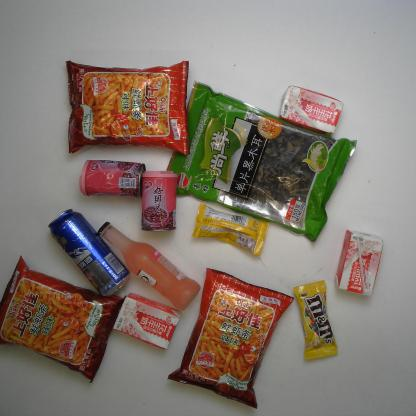Alcohol: (97, 218, 201, 307), (45, 208, 127, 299)
Canned Food: (137, 169, 180, 233), (80, 158, 143, 201)
Chocolate: (191, 203, 272, 259), (290, 279, 337, 362)
Dried Food: (166, 79, 357, 244)
Milk: (112, 291, 181, 349), (332, 230, 385, 296), (280, 82, 343, 136)
Puffed Food: (166, 267, 296, 408), (0, 256, 128, 383), (61, 56, 196, 157)
